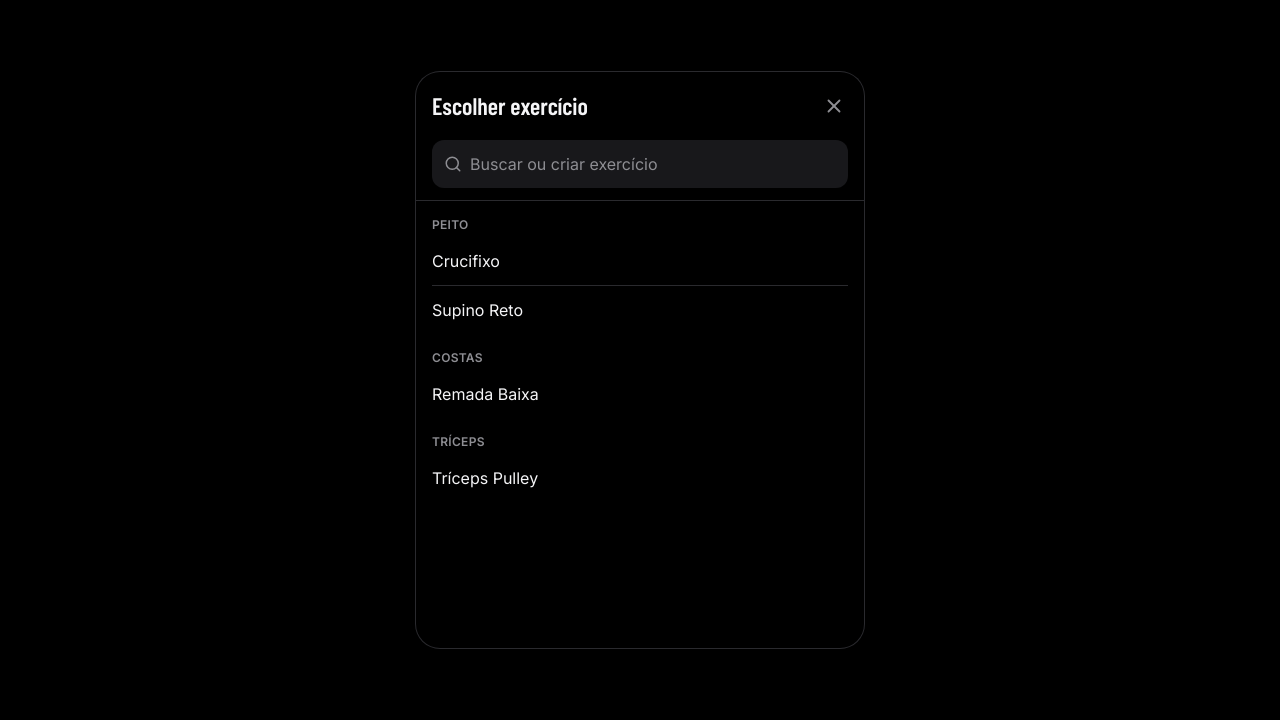
it: ExercisePickerModal › limpar busca restaura a lista
Expected: the text "Supino Reto" is shown, left=432, top=300, right=523, bottom=320
Step 1. Type "remada" into the search field named "Buscar exercício" → (653,164), box left=470, top=140, right=836, bottom=188
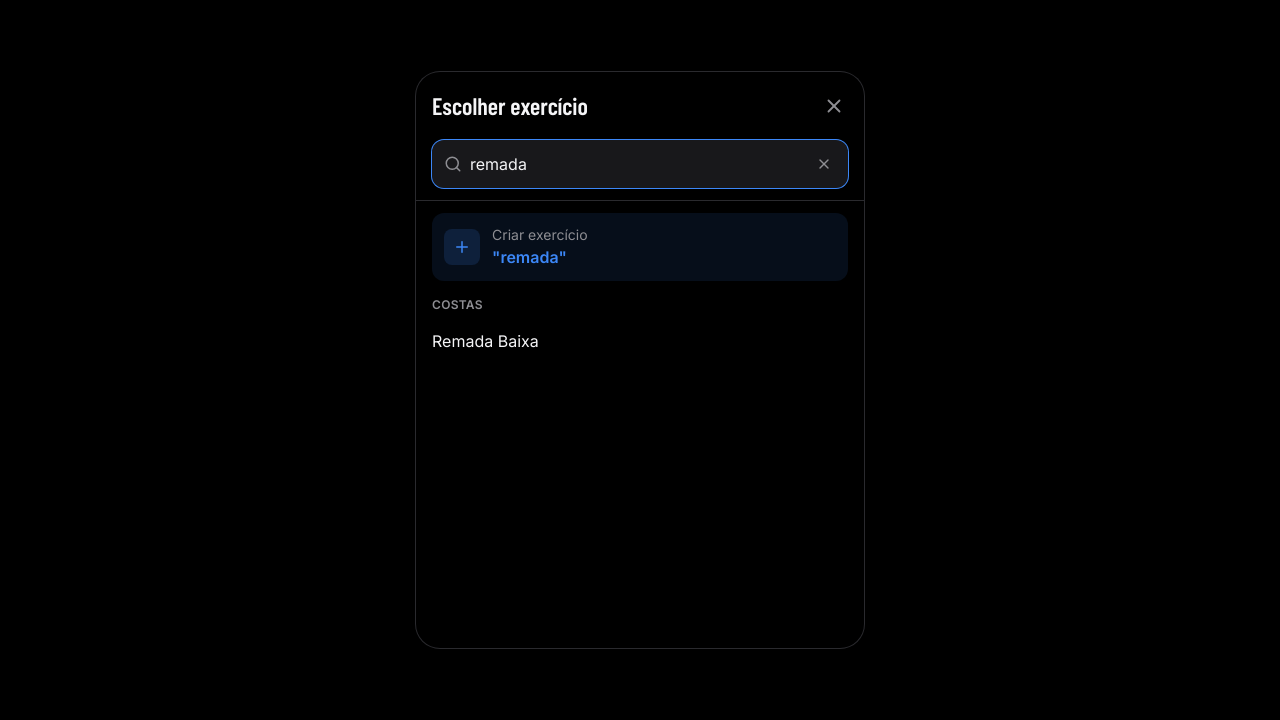
Step 2. Click the button named "Limpar busca" → (824,164), box left=804, top=144, right=844, bottom=184
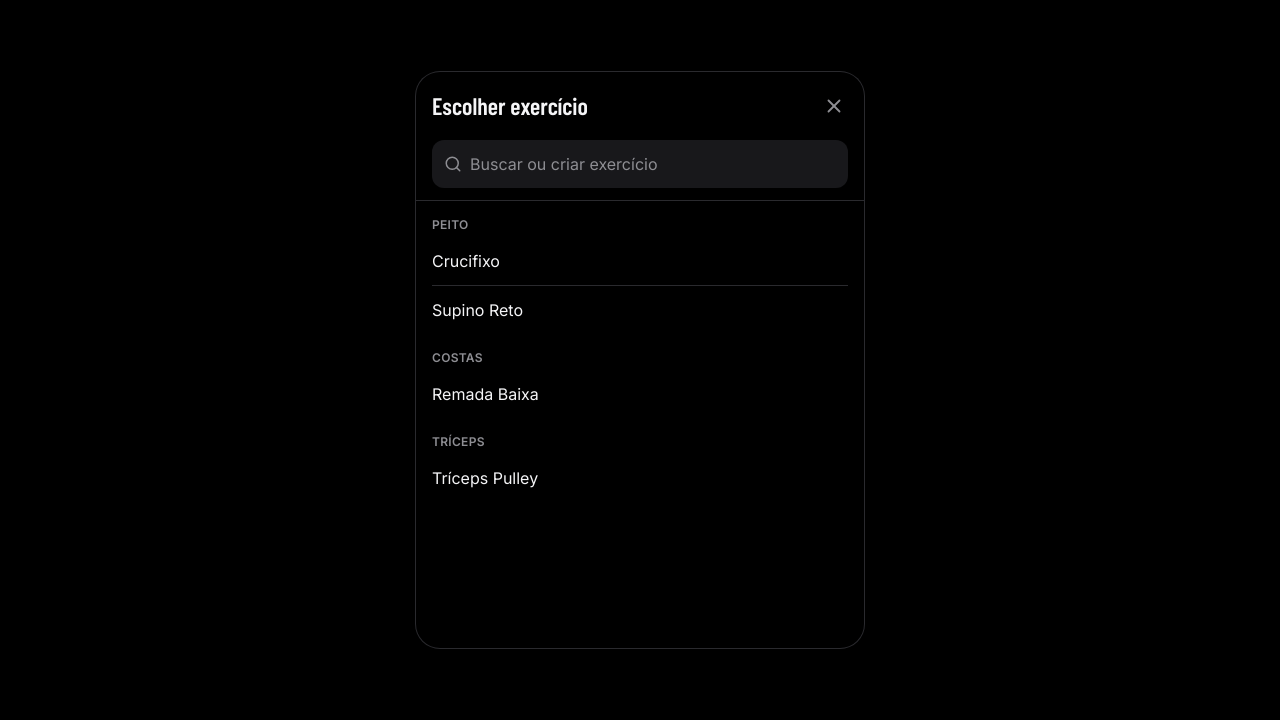
Expected: the search field named "Buscar exercício" is empty, left=470, top=140, right=836, bottom=188
Expected: the text "Supino Reto" is shown, left=432, top=300, right=523, bottom=320
